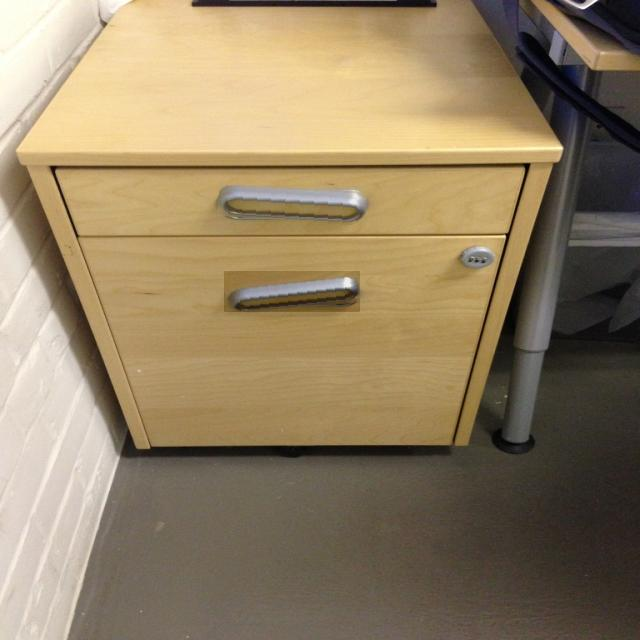doorhandle: (218, 185, 366, 224), (224, 271, 360, 312)
